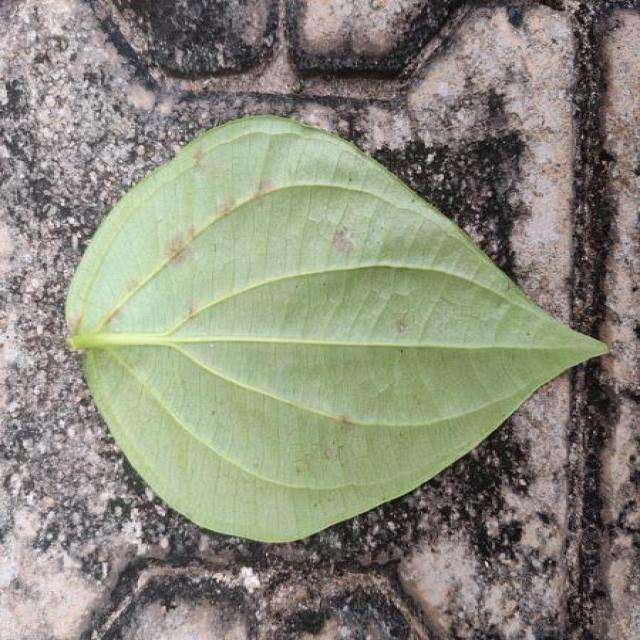betel: (67, 116, 605, 541)
